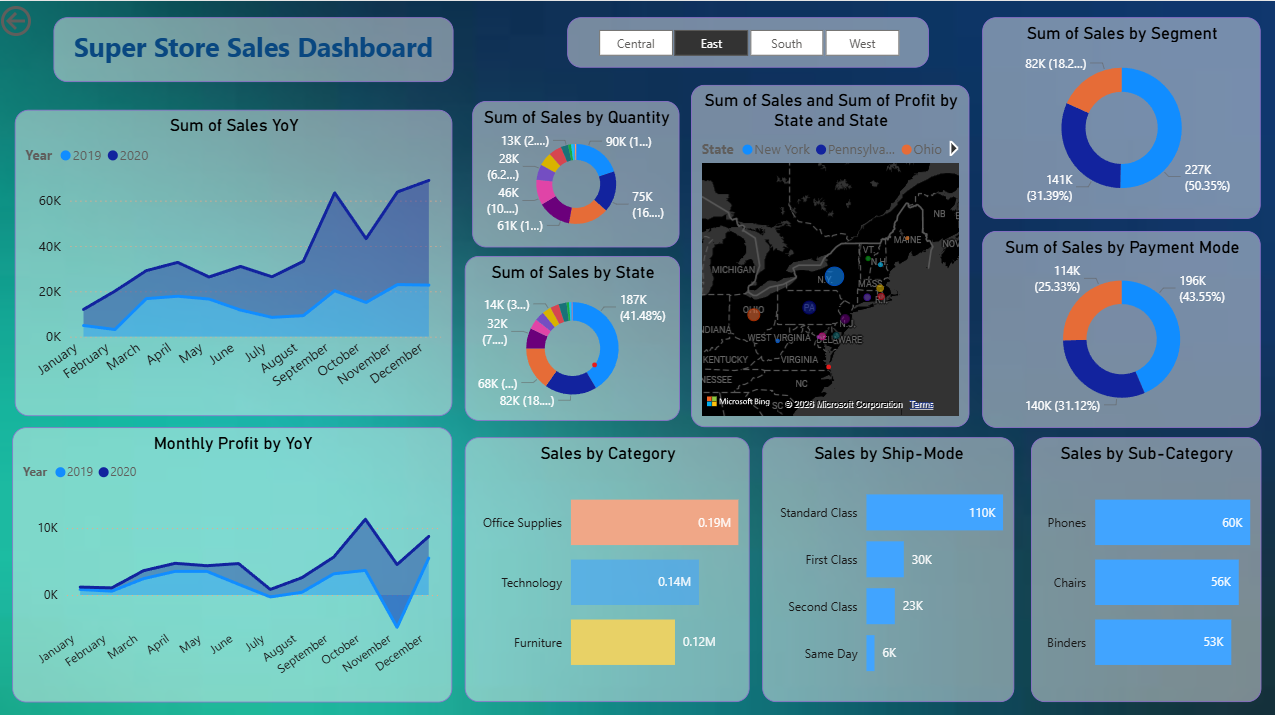

Layout of this report page (visuals, bound fields, positions):
{"tool":"powerbi","page":{"name":"Page 1","canvas":[1280,720],"ordinal":0},"visuals":[{"type":"clusteredBarChart","title":"Sales by Category","fields":{"Category":["Sheet1 (2).Category"],"Y":["Sum(Sheet1 (2).Sales)"]},"box":[468.3,436.7,285,265],"z":0},{"type":"clusteredBarChart","title":"Sales by Ship-Mode","fields":{"Category":["Sheet1 (2).Ship Mode"],"Y":["Sum(Sheet1 (2).Sales)"]},"box":[766.7,436.7,251.7,265],"z":1000},{"type":"stackedAreaChart","title":"Monthly Profit by YoY","fields":{"Category":["Sheet1 (2).Order Date.Variation.Date Hierarchy.Month","Sheet1 (2).Order Date.Variation.Date Hierarchy.Day"],"Series":["Sheet1 (2).Order Date.Variation.Date Hierarchy.Year"],"Y":["Sum(Sheet1 (2).Profit)"]},"box":[16.2,426.2,440,275],"z":2000},{"type":"map","fields":{"Category":["Sheet1 (2).State"],"Series":["Sheet1 (2).State"],"Size":["Sum(Sheet1 (2).Sales)"]},"box":[695,83.8,278.8,342.5],"z":3000},{"type":"clusteredBarChart","title":"Sales by Sub-Category","fields":{"Category":["Sheet1 (2).Sub-Category"],"Y":["Sum(Sheet1 (2).Sales)"]},"box":[1035,436.7,230,265],"z":4000},{"type":"stackedAreaChart","title":"Sum of Sales YoY","fields":{"Y":["Sum(Sheet1 (2).Sales)"],"Category":["Sheet1 (2).Order Date.Variation.Date Hierarchy.Month","Sheet1 (2).Order Date.Variation.Date Hierarchy.Day"],"Series":["Sheet1 (2).Order Date.Variation.Date Hierarchy.Year"]},"box":[18.8,108.8,437.5,306.2],"z":5000},{"type":"donutChart","fields":{"Category":["Sheet1 (2).Segment"],"Y":["Sum(Sheet1 (2).Sales)"]},"box":[986.7,16.7,278.3,201.7],"z":6000},{"type":"donutChart","fields":{"Category":["Sheet1 (2).Payment Mode"],"Y":["Sum(Sheet1 (2).Sales)"]},"box":[986.7,230,278.3,196.7],"z":7000},{"type":"slicer","fields":{"Values":["Sheet1 (2).Region"]},"box":[571.7,16.7,361.7,50],"z":8000},{"type":"textbox","box":[57.5,16.2,400,65],"z":9000},{"type":"donutChart","fields":{"Y":["Sum(Sheet1 (2).Sales)"],"Category":["Superstore_Sales.State"]},"box":[468.8,255,215,165],"z":10000},{"type":"actionButton","box":[0,0,100,40],"z":11000},{"type":"donutChart","fields":{"Y":["Sum(Sheet1 (2).Sales)"],"Category":["Superstore_Sales.Quantity"]},"box":[476.2,100,207.5,146.2],"z":11001}]}

Visuals, with their boxes in screenshot pixels (x1, y1, x2, y2), scaled from the page's 1280x720 canvas onto the 1275x715 screenshot:
"Sales by Category" clusteredBarChart: {"left": 466, "top": 434, "right": 750, "bottom": 697}
"Sales by Ship-Mode" clusteredBarChart: {"left": 764, "top": 434, "right": 1014, "bottom": 697}
"Monthly Profit by YoY" stackedAreaChart: {"left": 16, "top": 423, "right": 454, "bottom": 696}
map - Sheet1 (2).State x Sheet1 (2).State: {"left": 692, "top": 83, "right": 970, "bottom": 423}
"Sales by Sub-Category" clusteredBarChart: {"left": 1031, "top": 434, "right": 1260, "bottom": 697}
"Sum of Sales YoY" stackedAreaChart: {"left": 19, "top": 108, "right": 455, "bottom": 412}
donutChart - Sheet1 (2).Segment x Sum(Sheet1 (2).Sales): {"left": 983, "top": 17, "right": 1260, "bottom": 217}
donutChart - Sheet1 (2).Payment Mode x Sum(Sheet1 (2).Sales): {"left": 983, "top": 228, "right": 1260, "bottom": 424}
slicer - Sheet1 (2).Region: {"left": 569, "top": 17, "right": 930, "bottom": 66}
textbox: {"left": 57, "top": 16, "right": 456, "bottom": 81}
donutChart - Sum(Sheet1 (2).Sales) x Superstore_Sales.State: {"left": 467, "top": 253, "right": 681, "bottom": 417}
actionButton: {"left": 0, "top": 0, "right": 100, "bottom": 40}
donutChart - Sum(Sheet1 (2).Sales) x Superstore_Sales.Quantity: {"left": 474, "top": 99, "right": 681, "bottom": 244}
